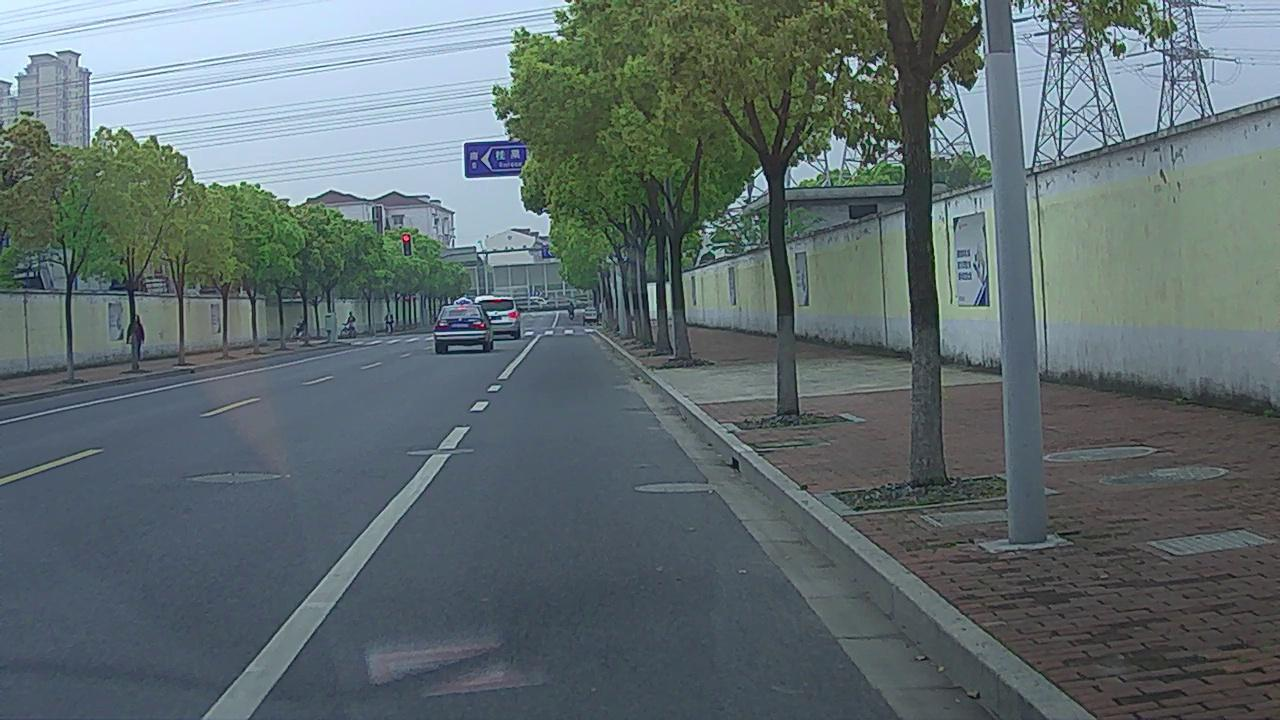traffic_light: (402, 234, 411, 255)
